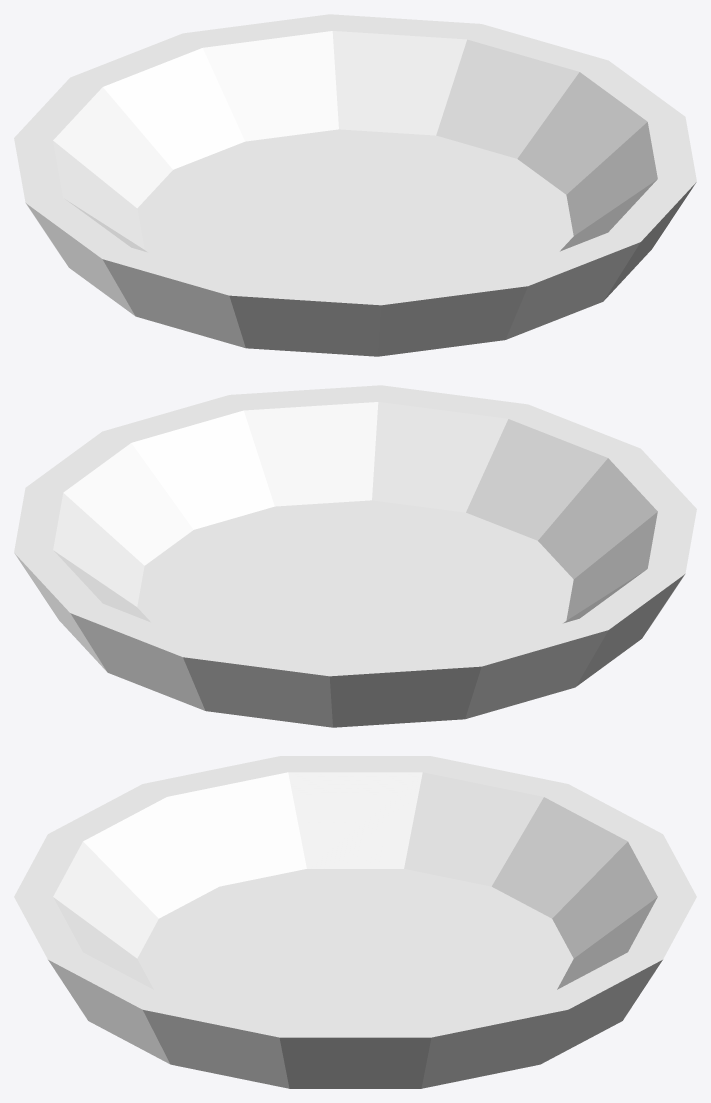
File: Dish.fbx
3 renders of one model, top to bottom at view 1: azimuth 30°, elevation 25°; view 2: azimuth 150°, elevation 25°; view 3: azimuth 270°, elevation 25°, orthographic.
Visible parts, largest first — view 1: Dish; view 2: Dish; view 3: Dish.
Boxes of the visible parts, bbox=[...] form: Dish: bbox=[14, 14, 696, 356]; Dish: bbox=[14, 385, 696, 727]; Dish: bbox=[14, 756, 696, 1088].
Bounding box in the file's own units: 0.1504 × 0.0174 × 0.1542.
